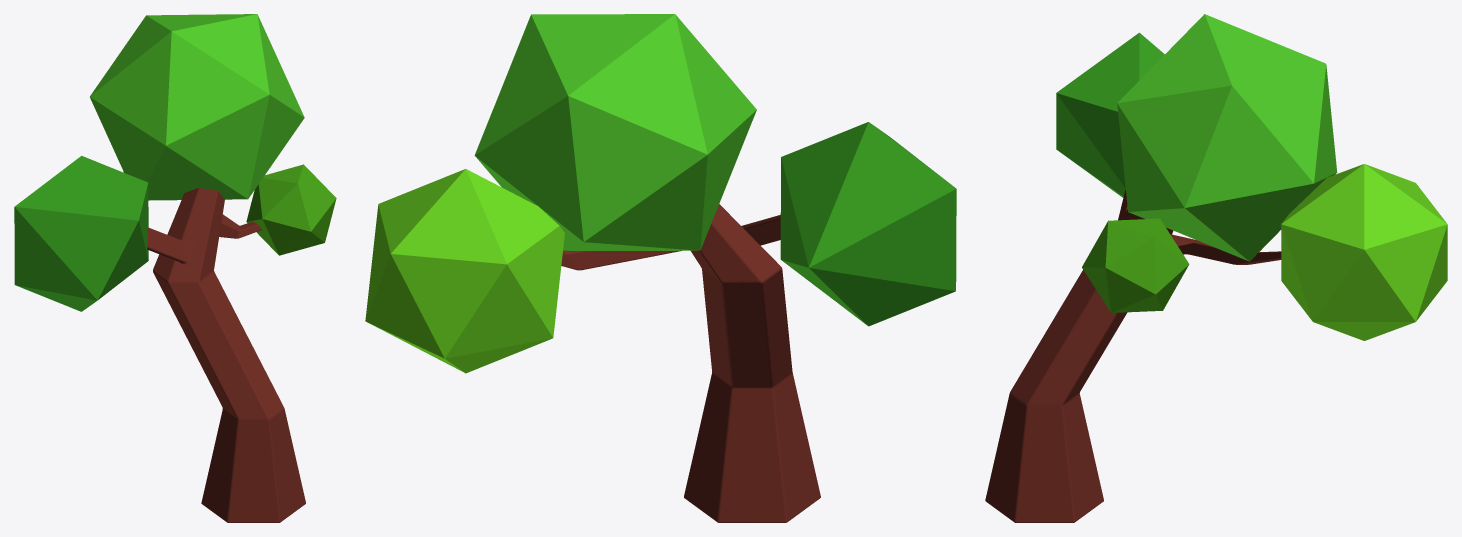
File: Low poly tree 2.fbx
The picture shows the model from 3 angles, left to right: view 1: azimuth 30°, elevation 25°; view 2: azimuth 150°, elevation 25°; view 3: azimuth 270°, elevation 25°; orthographic projection. The views are drawn at different scales.
Visible parts, largest first — view 1: Icosphere.001, Cylinder.006, Icosphere, Icosphere.004; view 2: Icosphere.001, Icosphere.002, Cylinder.006, Icosphere; view 3: Icosphere.001, Icosphere.002, Cylinder.006, Icosphere, Icosphere.004.
Part boxes in pixels (bbox=[...]): Icosphere.001: bbox=[90, 14, 304, 200]; Cylinder.006: bbox=[147, 188, 305, 522]; Icosphere: bbox=[14, 155, 148, 311]; Icosphere.004: bbox=[246, 164, 336, 255]; Icosphere.001: bbox=[474, 14, 756, 251]; Icosphere.002: bbox=[365, 169, 564, 373]; Cylinder.006: bbox=[561, 204, 820, 522]; Icosphere: bbox=[780, 122, 956, 326]; Icosphere.001: bbox=[1117, 14, 1337, 261]; Icosphere.002: bbox=[1281, 164, 1447, 340]; Cylinder.006: bbox=[985, 189, 1281, 522]; Icosphere: bbox=[1056, 32, 1164, 197]; Icosphere.004: bbox=[1082, 218, 1189, 312].
Size of the model in its own units: 747 by 884 by 770.
